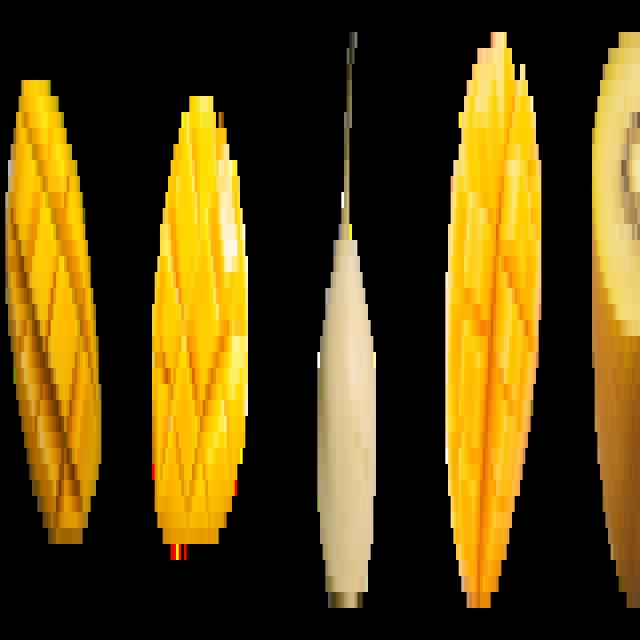mango: (444, 9, 546, 620), (148, 48, 254, 577), (4, 35, 106, 582)
pear: (312, 13, 386, 619)
